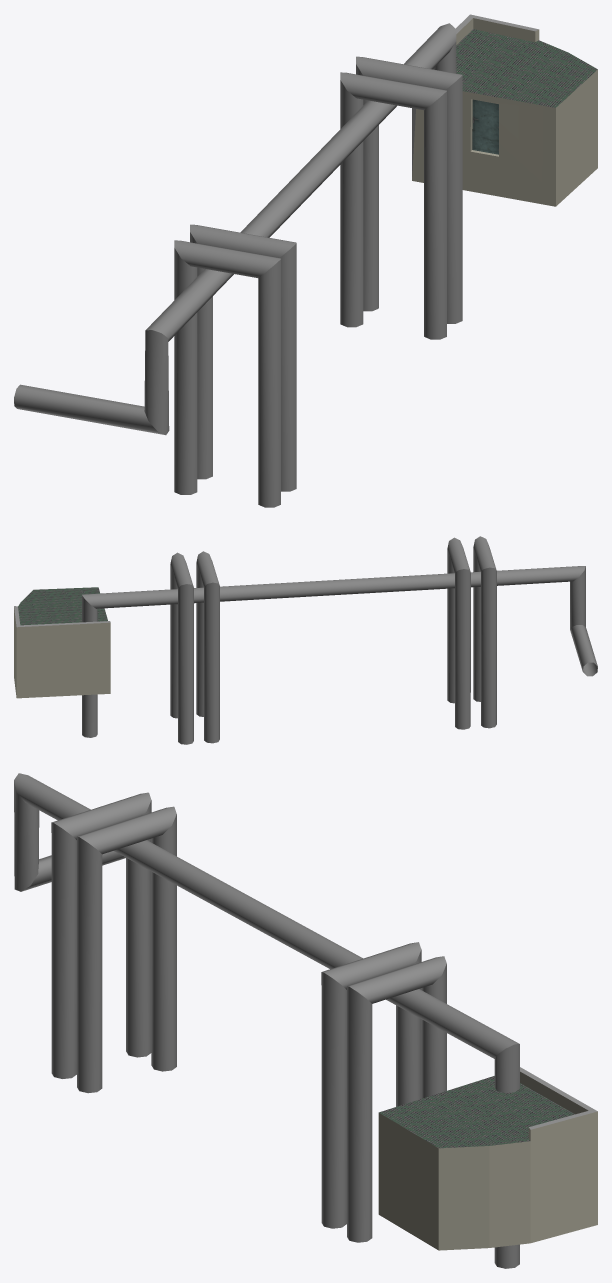
3 views of the same model, one above another, from view 1: azimuth 30°, elevation 25°; view 2: azimuth 150°, elevation 25°; view 3: azimuth 270°, elevation 25° (orthographic). The views are drawn at different scales.
Visible parts, largest first — view 1: 01020-50@500001938; view 2: 01020-50@500001938; view 3: 01020-50@500001938.
Part boxes in pixels (left/top/right/bottom): 01020-50@500001938: left=14, top=14, right=597, bottom=507; 01020-50@500001938: left=14, top=536, right=597, bottom=744; 01020-50@500001938: left=14, top=773, right=597, bottom=1268.
Bounding box in the file's own units: 27.12 × 8.84 × 18.24.
Materials: 1 (1 with a texture image).
